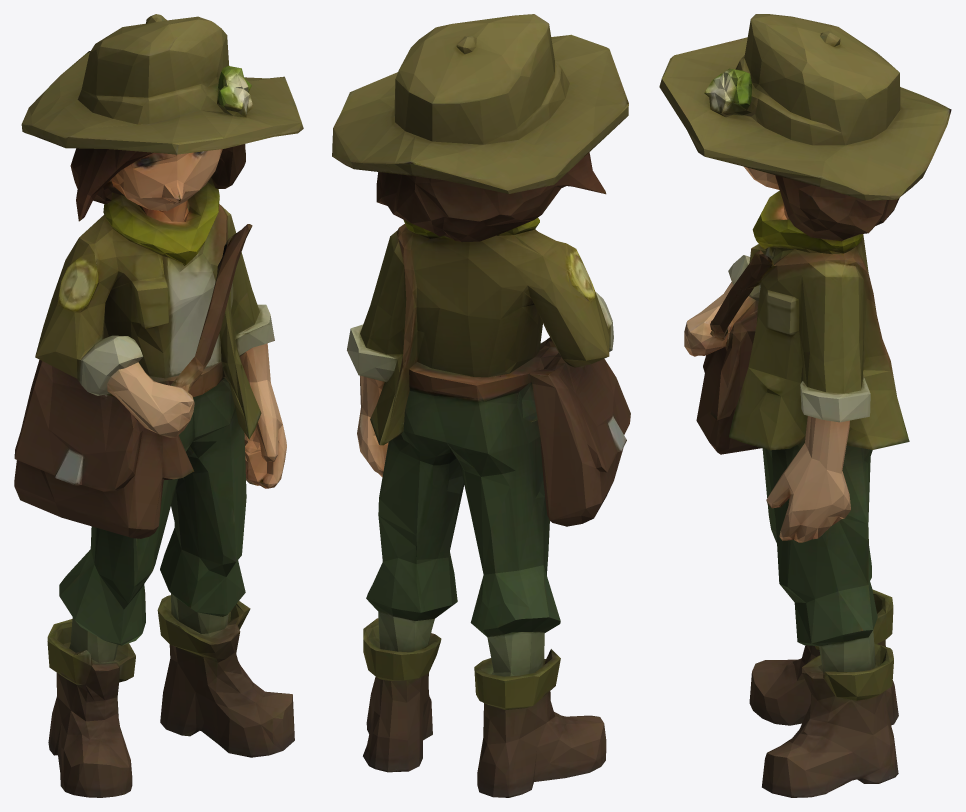
Rendered from ranger_safari.glb.
3 renders of one model, left to right at view 1: azimuth 30°, elevation 25°; view 2: azimuth 150°, elevation 25°; view 3: azimuth 270°, elevation 25°, orthographic. The views are drawn at different scales.
Parts seen in each view (by area): view 1: world; view 2: world; view 3: world.
Part boxes in pixels (x1,y1,x2,y2): world: (14, 14, 303, 797); world: (332, 14, 630, 797); world: (659, 14, 951, 797).
Size of the model in its own units: 0.3753 by 0.9984 by 0.3676.
1 material, 1 textured.
